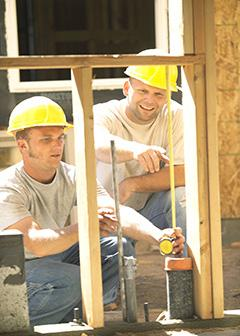helmet: (125, 49, 180, 94), (8, 97, 73, 135)
